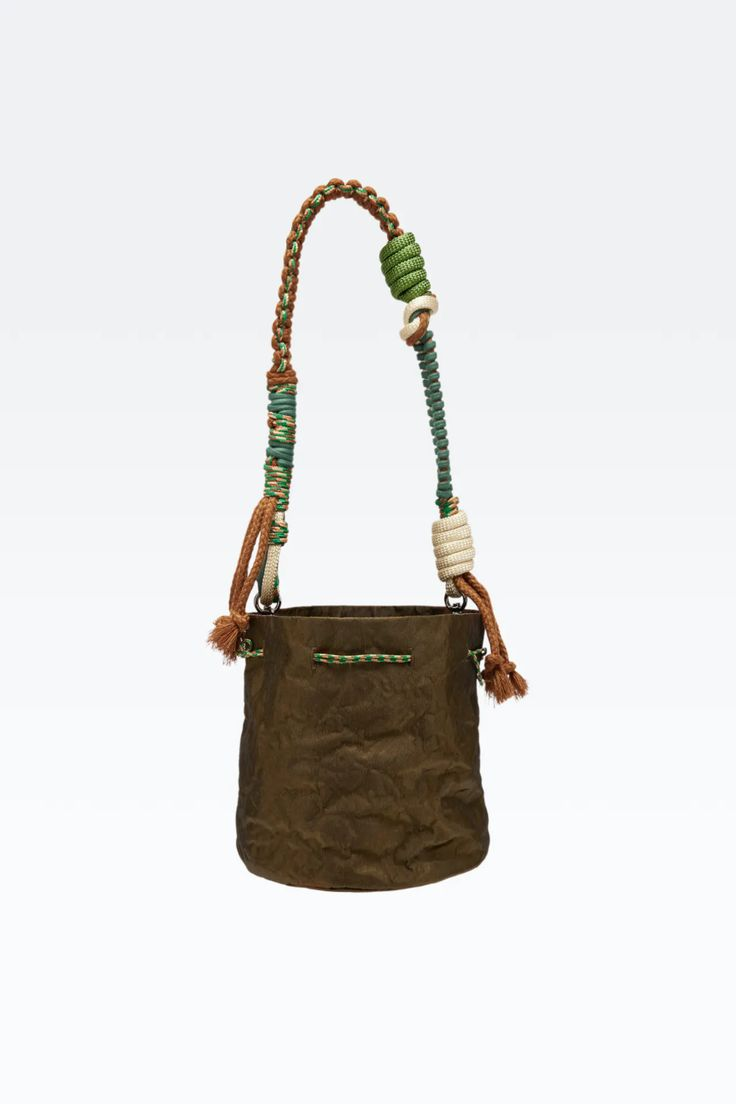nylon: (235, 603, 490, 893)
